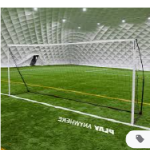goals: (6, 38, 143, 125)
